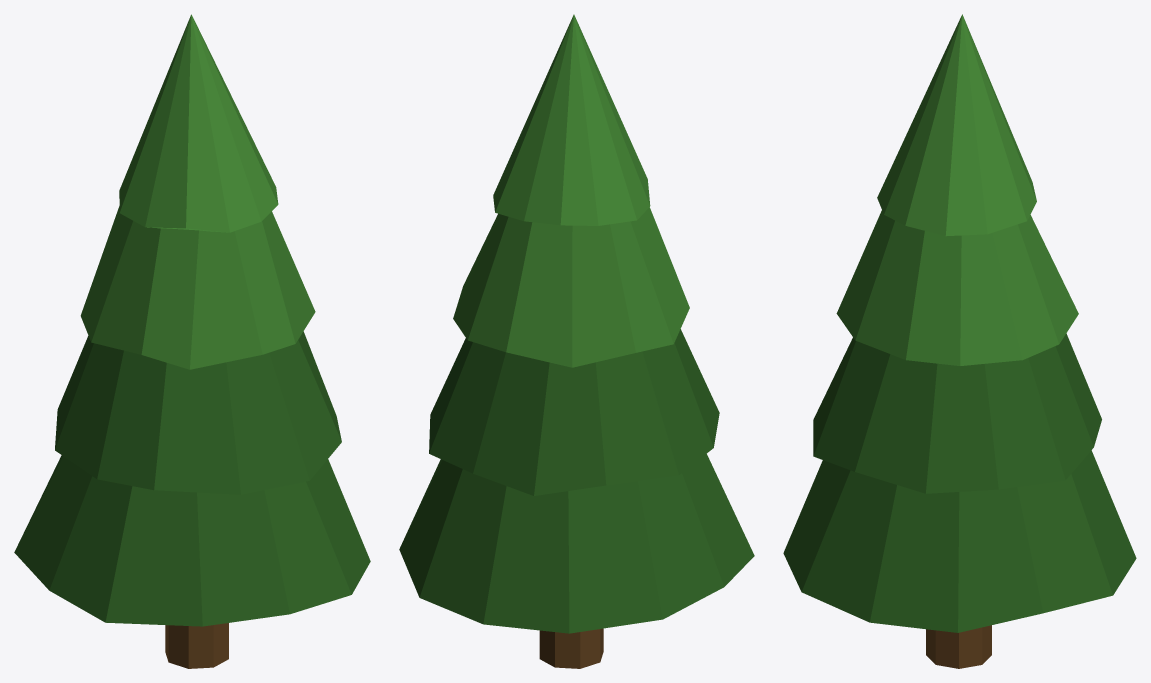
File: tree_pine.glb
3 views of the same model, side by side, from view 1: azimuth 30°, elevation 25°; view 2: azimuth 150°, elevation 25°; view 3: azimuth 270°, elevation 25° (orthographic).
Visible parts, largest first — view 1: TreePine; view 2: TreePine; view 3: TreePine.
Part boxes in pixels (box(x1,y1,x2,y2)): TreePine: box(14, 14, 370, 668); TreePine: box(399, 14, 754, 668); TreePine: box(783, 14, 1136, 668).
Bounding box in the file's own units: 2.72 × 5.56 × 2.79.
